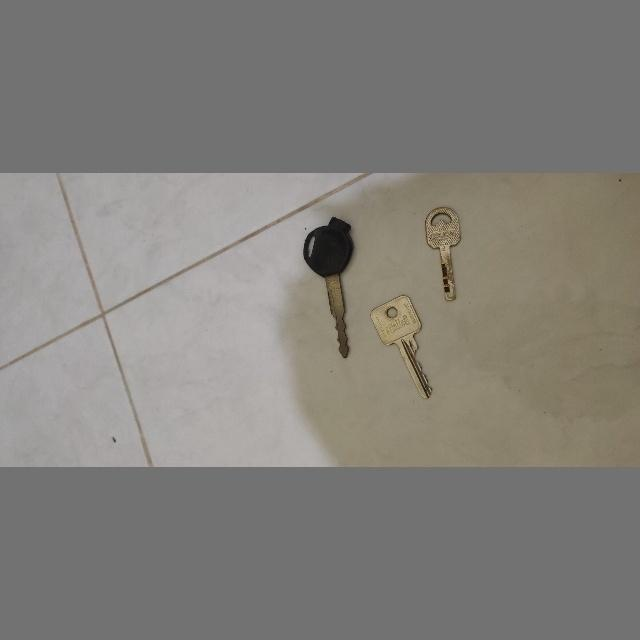Keys: (301, 214, 359, 362), (370, 295, 438, 403), (422, 203, 463, 307)
